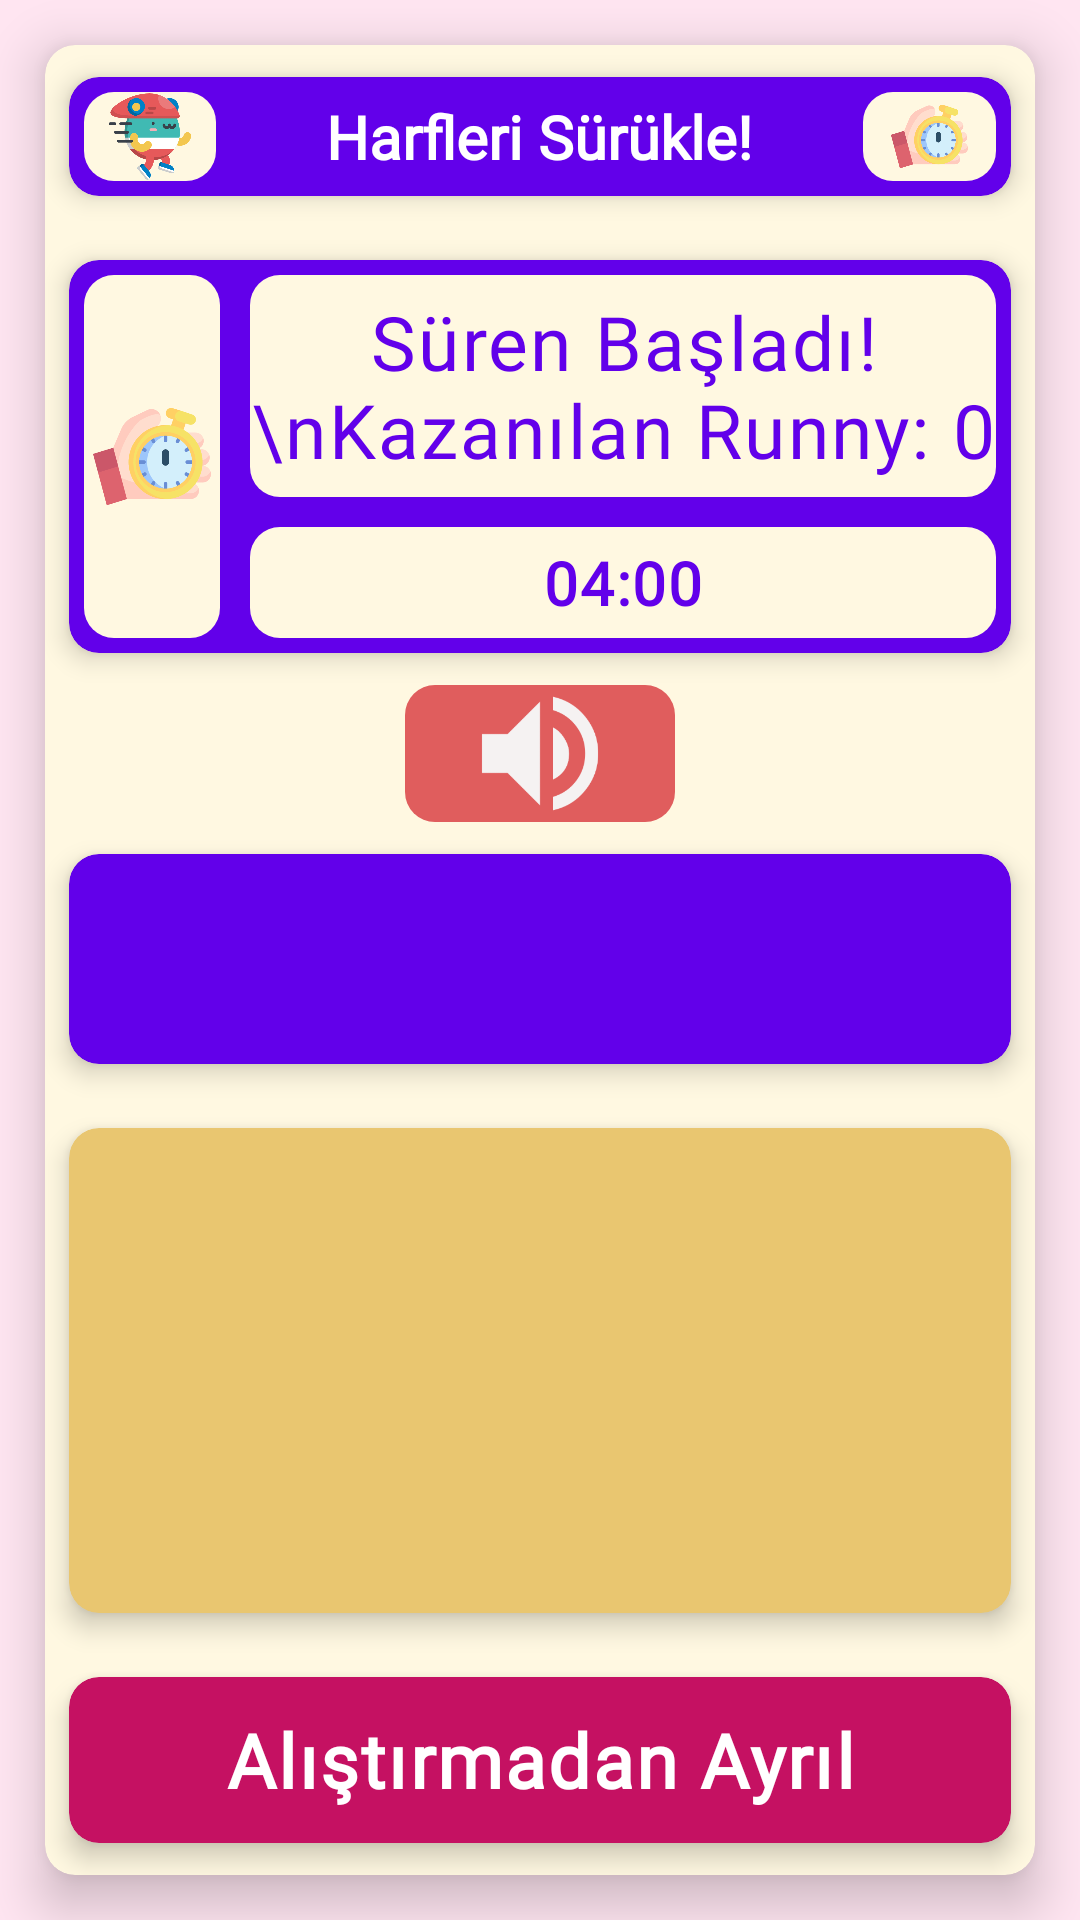

Icons on this 1080×1920 Android screen, each with the point to tap as point (x, y):
runwords: point (150, 136)
volumewhite: point (540, 753)
